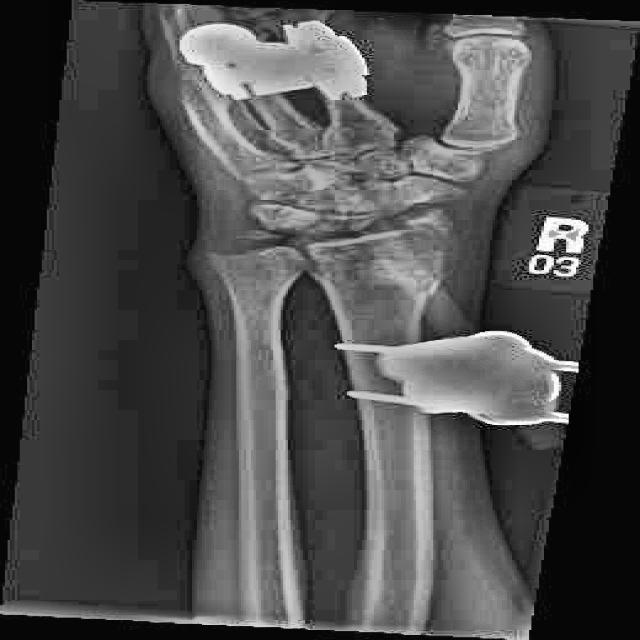fingers positive: (219, 202, 493, 292)
